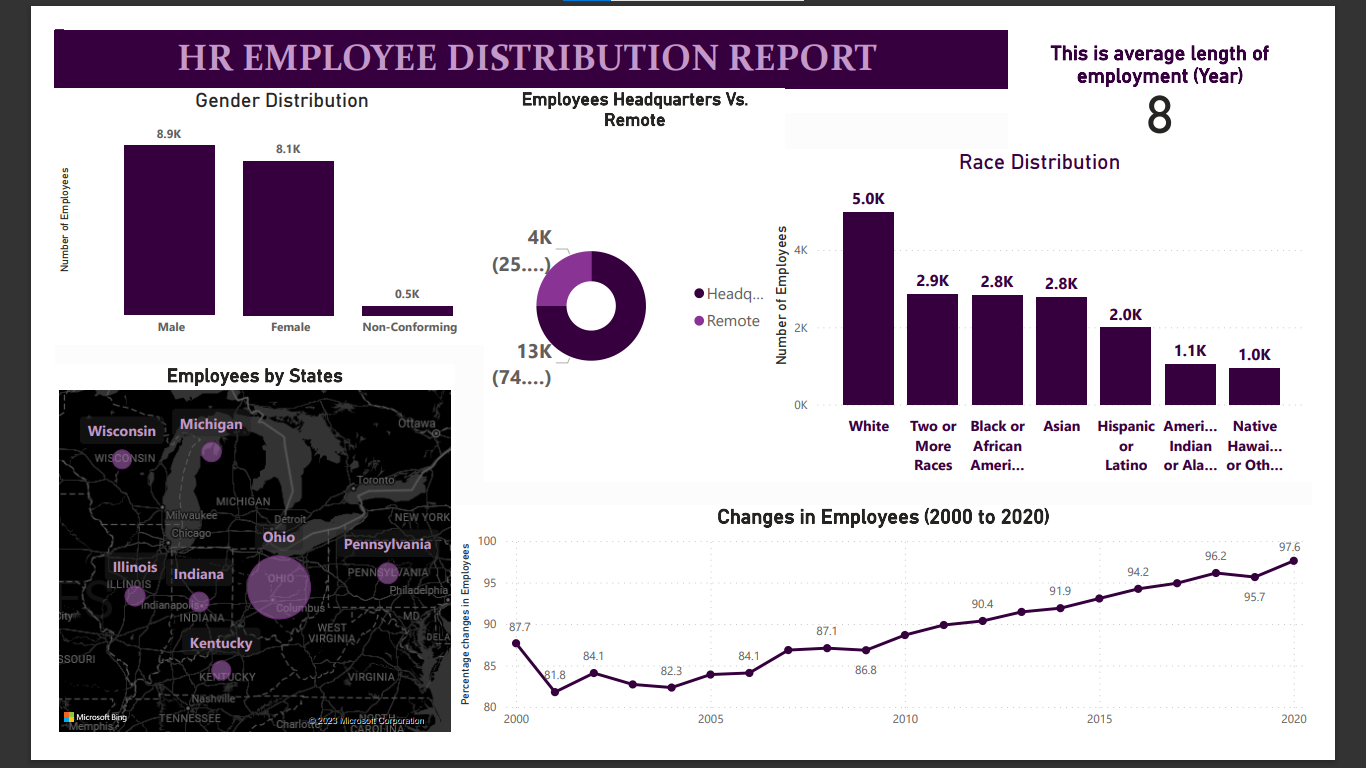

The dashboard page shown, as its layout file describes it:
{"tool":"powerbi","page":{"name":"Page 1","canvas":[1280,720],"ordinal":0},"visuals":[{"type":"textbox","box":[10.1,0,1270.4,84.8],"z":0},{"type":"textbox","box":[0,0,971,60],"z":1000},{"type":"card","title":"This is average length of employment (Year)","fields":{"Values":["Sum(avg_length_employment.avg_lengthof_employment)"]},"box":[971,12.4,309,109.5],"z":2000},{"type":"columnChart","title":"Gender Distribution","fields":{"Category":["gender.gender"],"Y":["Sum(gender.count)"]},"box":[0,60,464.3,261.3],"z":3000},{"type":"donutChart","title":"Employees Headquarters Vs. Remote","fields":{"Category":["location.location"],"Y":["Sum(location.count)"]},"box":[438.3,60.4,306.1,401],"z":4000},{"type":"lineChart","title":"Changes in Employees (2000 to 2020)","fields":{"Category":["termination_hire.year"],"Y":["Sum(termination_hire.net_change_percesnt)"]},"box":[407.8,483.8,872.2,236.6],"z":5000},{"type":"map","title":"Employees by States ","fields":{"Category":["location_state.location_state"],"Size":["Sum(location_state.count)"]},"box":[0,340.7,407.8,379.6],"z":6000},{"type":"clusteredColumnChart","title":"Race Distribution","fields":{"Category":["race.race"],"Y":["Sum(race.count)"]},"box":[727.2,122.2,553.3,339.2],"z":7000}]}

Visuals, with their boxes in screenshot pixels (x1, y1, x2, y2), scaled from the page's 1280x720 canvas onto the 1366x768 screenshot:
textbox: <region>11, 0, 1365, 90</region>
textbox: <region>0, 0, 1036, 64</region>
"This is average length of employment (Year)" card: <region>1036, 13, 1365, 130</region>
"Gender Distribution" columnChart: <region>0, 64, 495, 343</region>
"Employees Headquarters Vs. Remote" donutChart: <region>468, 64, 794, 492</region>
"Changes in Employees (2000 to 2020)" lineChart: <region>435, 516, 1365, 767</region>
"Employees by States " map: <region>0, 363, 435, 767</region>
"Race Distribution" clusteredColumnChart: <region>776, 130, 1365, 492</region>
